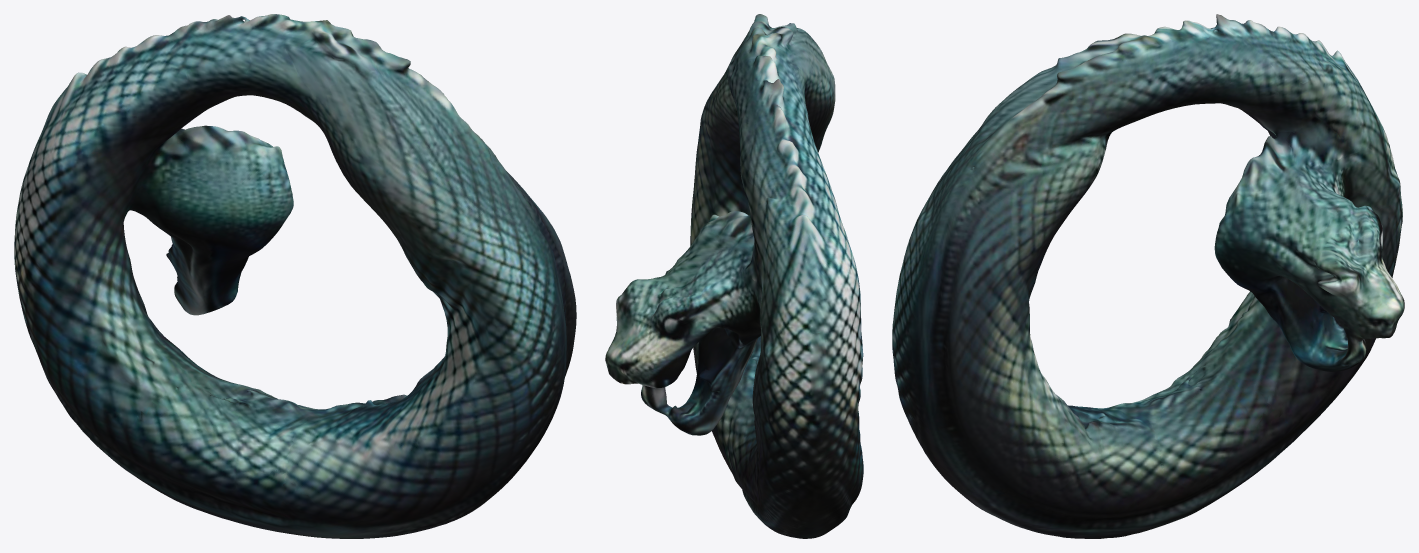
The model's file is ouroboros_3d.glb.
3 renders of one model, left to right at view 1: azimuth 30°, elevation 25°; view 2: azimuth 150°, elevation 25°; view 3: azimuth 270°, elevation 25°, orthographic. The views are drawn at different scales.
Parts seen in each view (by area): view 1: tripo_node_37a1b890-4574-4533-8290-0bc2dde2cf3a; view 2: tripo_node_37a1b890-4574-4533-8290-0bc2dde2cf3a; view 3: tripo_node_37a1b890-4574-4533-8290-0bc2dde2cf3a.
Boxes of the visible parts, left/top/right/bottom form: tripo_node_37a1b890-4574-4533-8290-0bc2dde2cf3a: left=14, top=14, right=576, bottom=538; tripo_node_37a1b890-4574-4533-8290-0bc2dde2cf3a: left=605, top=14, right=863, bottom=538; tripo_node_37a1b890-4574-4533-8290-0bc2dde2cf3a: left=892, top=14, right=1404, bottom=538.
Size of the model in its own units: 0.5256 by 0.7052 by 0.6561.
Materials: 1 (1 with a texture image).
